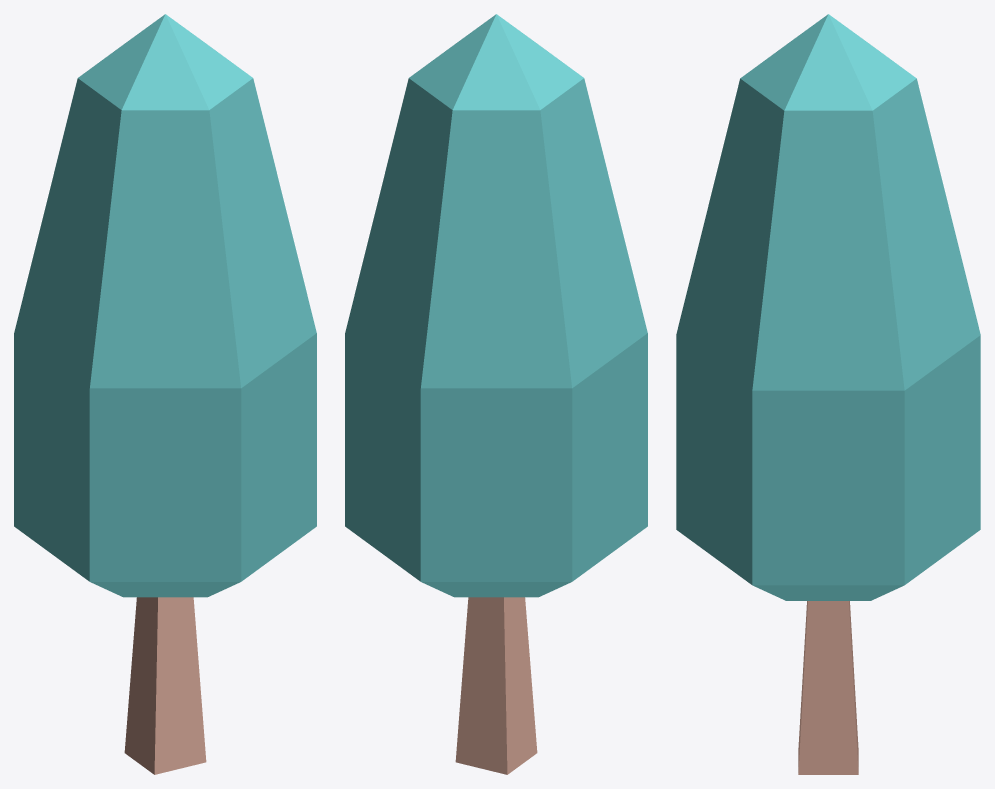
3 views of the same model, side by side, from view 1: azimuth 30°, elevation 25°; view 2: azimuth 150°, elevation 25°; view 3: azimuth 270°, elevation 25° (orthographic).
Parts seen in each view (by area): view 1: tree_small_dark; view 2: tree_small_dark; view 3: tree_small_dark.
Boxes of the visible parts, x1,y1,x2,y2 form: tree_small_dark: (14,14,316,774); tree_small_dark: (345,14,647,774); tree_small_dark: (676,14,980,774).
Size of the model in its own units: 0.3546 by 1.11 by 0.4095.
